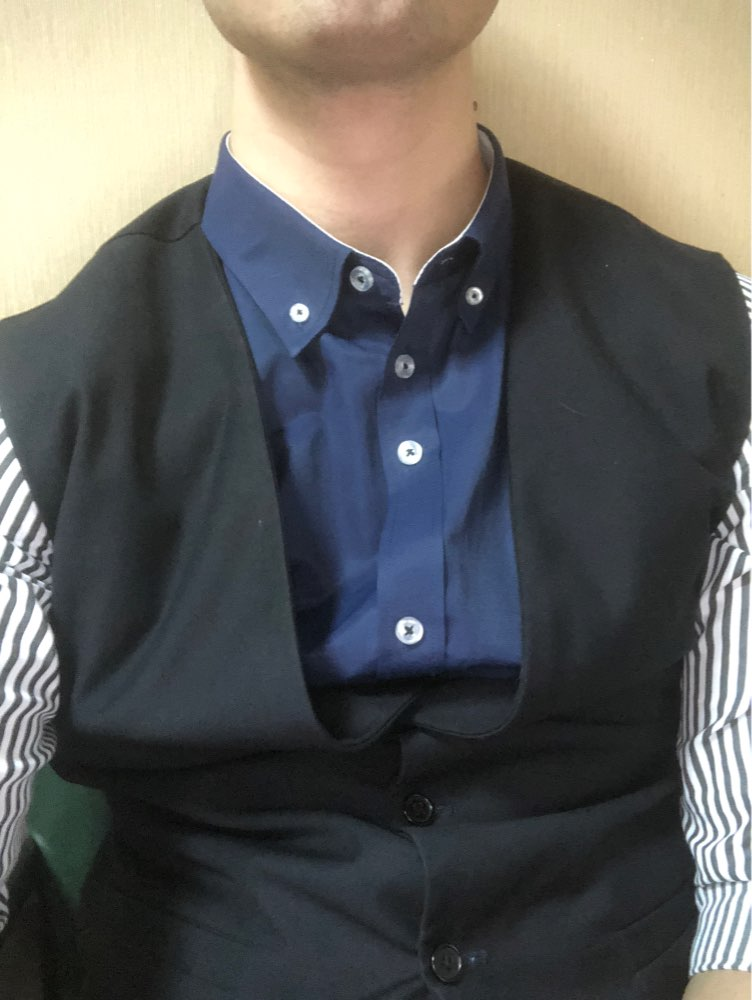shirts: (41, 143, 749, 1000)
